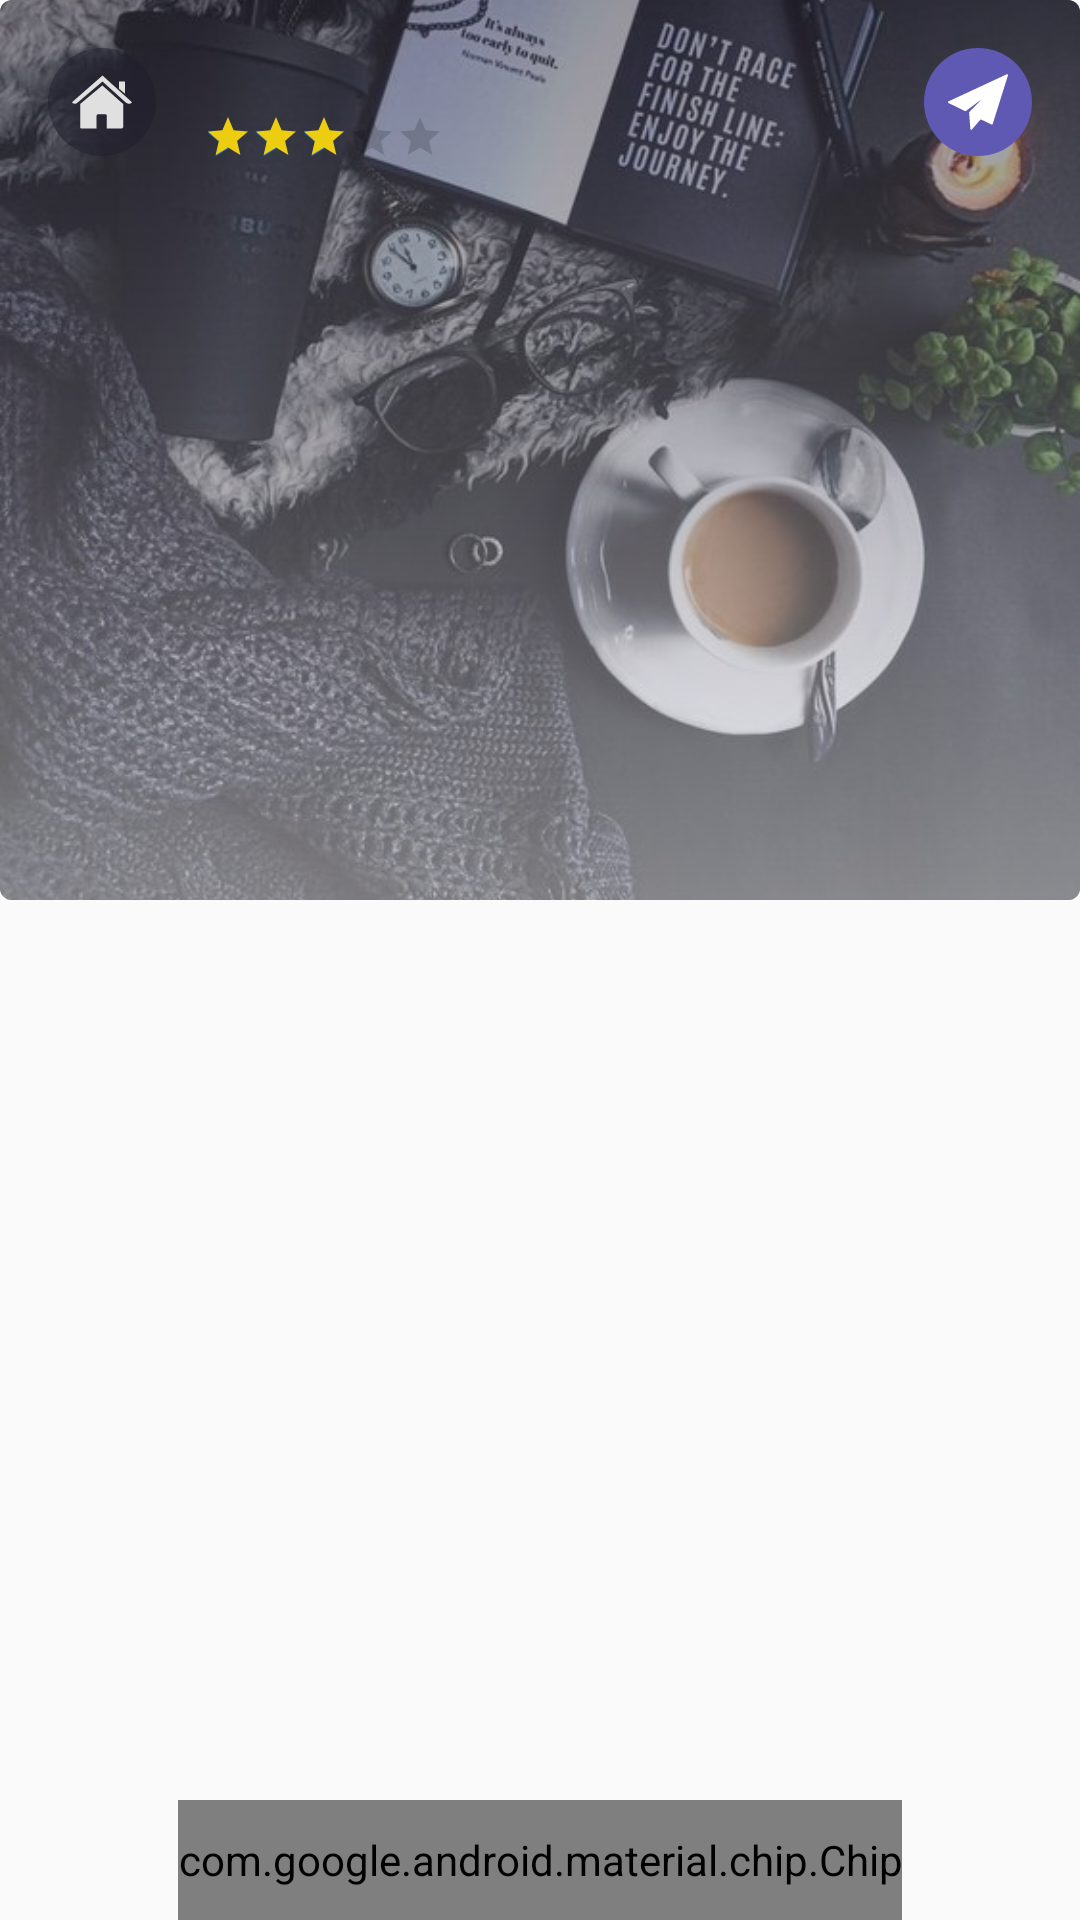

Screen size 1080w x 1920h. Icon name, then its box in pixels as BBox(x1, y1, x2, y2):
home: BBox(54, 75, 132, 129)
sent: BBox(924, 48, 1032, 156)
